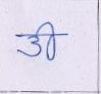i_matra: (39, 21, 57, 61)
